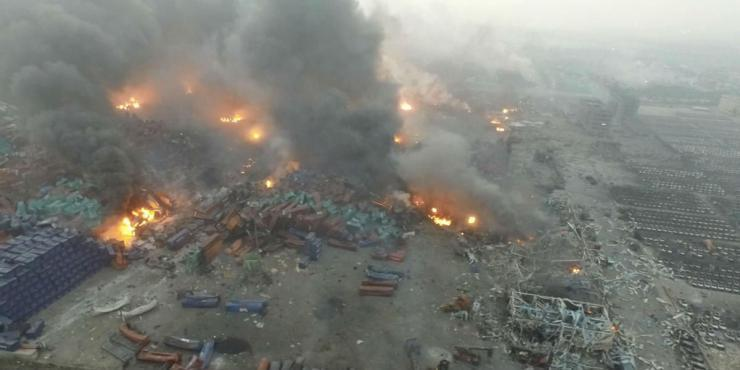fire: (110, 200, 166, 243), (106, 87, 148, 115), (421, 197, 451, 232), (237, 119, 272, 144), (208, 102, 247, 124), (487, 104, 514, 135), (462, 205, 482, 226), (385, 124, 405, 143), (254, 169, 274, 187), (391, 98, 413, 113), (569, 263, 585, 274)
